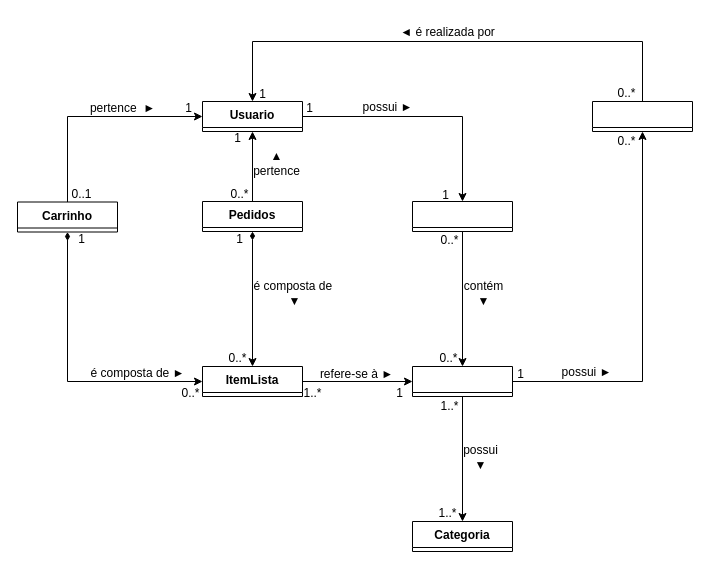
Image size: 710x569. Some labels were removed from this diagram. Here are the shapes that lost their labels. From the top down, the centre of each, then its label:
At [642,116]: "Avaliacao".
At [462,216]: "Favoritos".
At [462,381]: "Produto".
